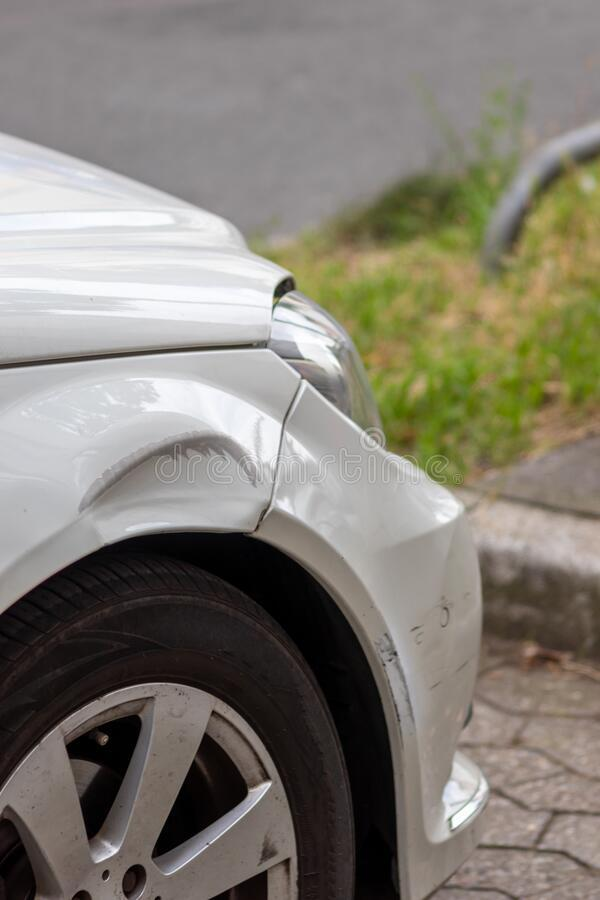fender-dent: (0, 342, 280, 742)
front-bumper-dent: (281, 392, 510, 892)
